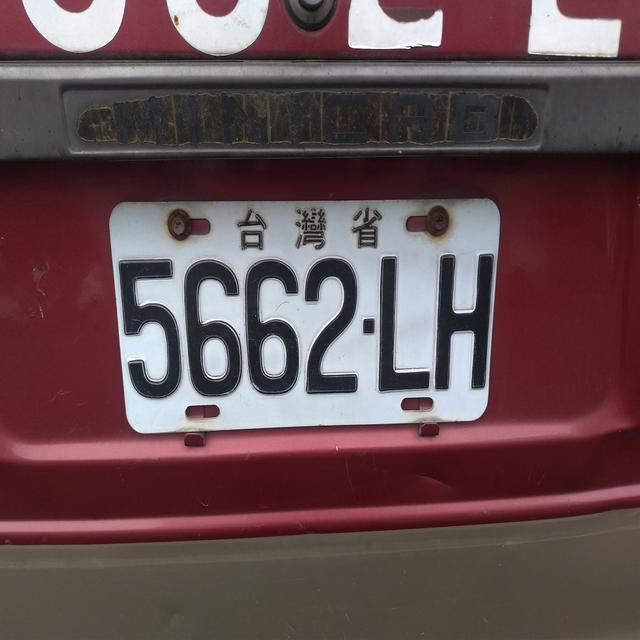license: (110, 245, 500, 405)
